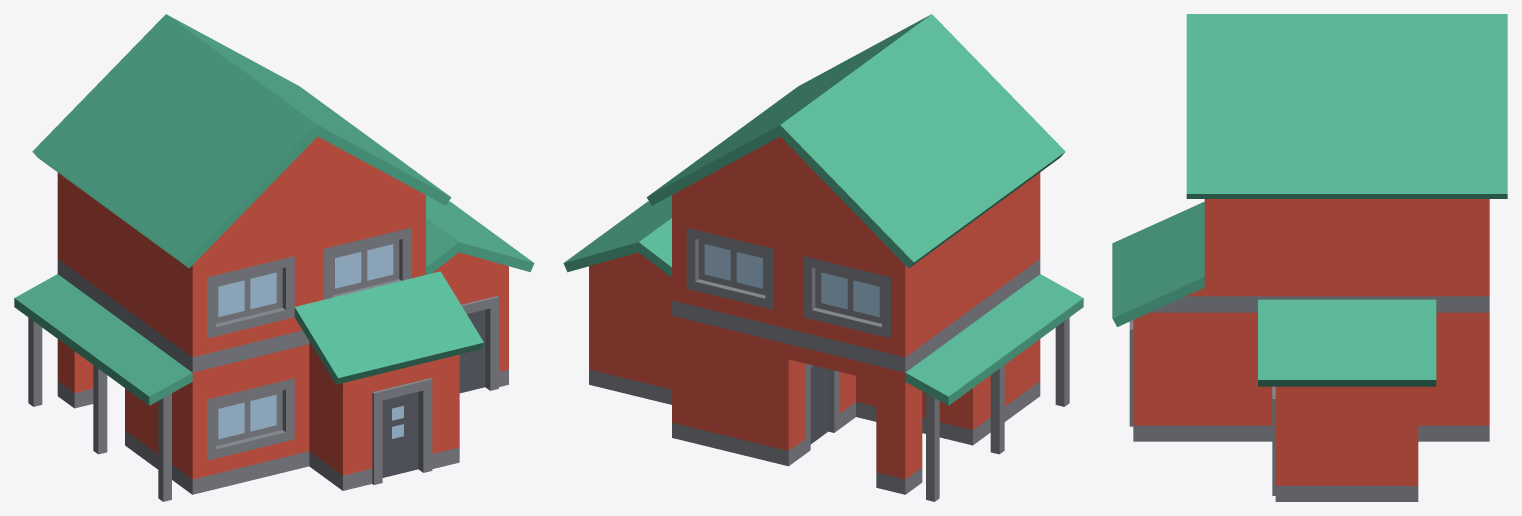
Rendered from House Type 17.glb.
3 views of the same model, side by side, from view 1: azimuth 30°, elevation 25°; view 2: azimuth 150°, elevation 25°; view 3: azimuth 270°, elevation 25° (orthographic). The views are drawn at different scales.
Parts seen in each view (by area): view 1: house_type17; view 2: house_type17; view 3: house_type17.
Part boxes in pixels (x1=…): house_type17: x1=14, y1=14, x2=534, y2=501; house_type17: x1=563, y1=14, x2=1083, y2=501; house_type17: x1=1112, y1=14, x2=1507, y2=501.
Bounding box in the file's own units: 1.41 × 1.14 × 1.11.
